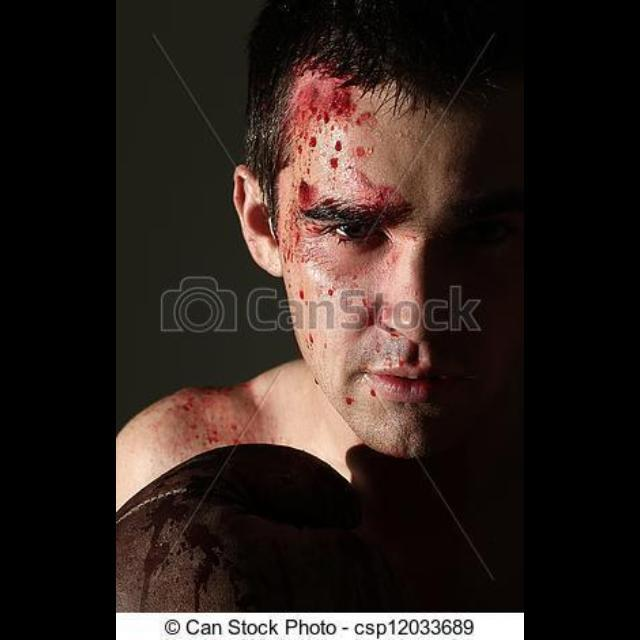blood: (267, 71, 413, 311), (296, 295, 407, 423), (146, 383, 267, 468)
